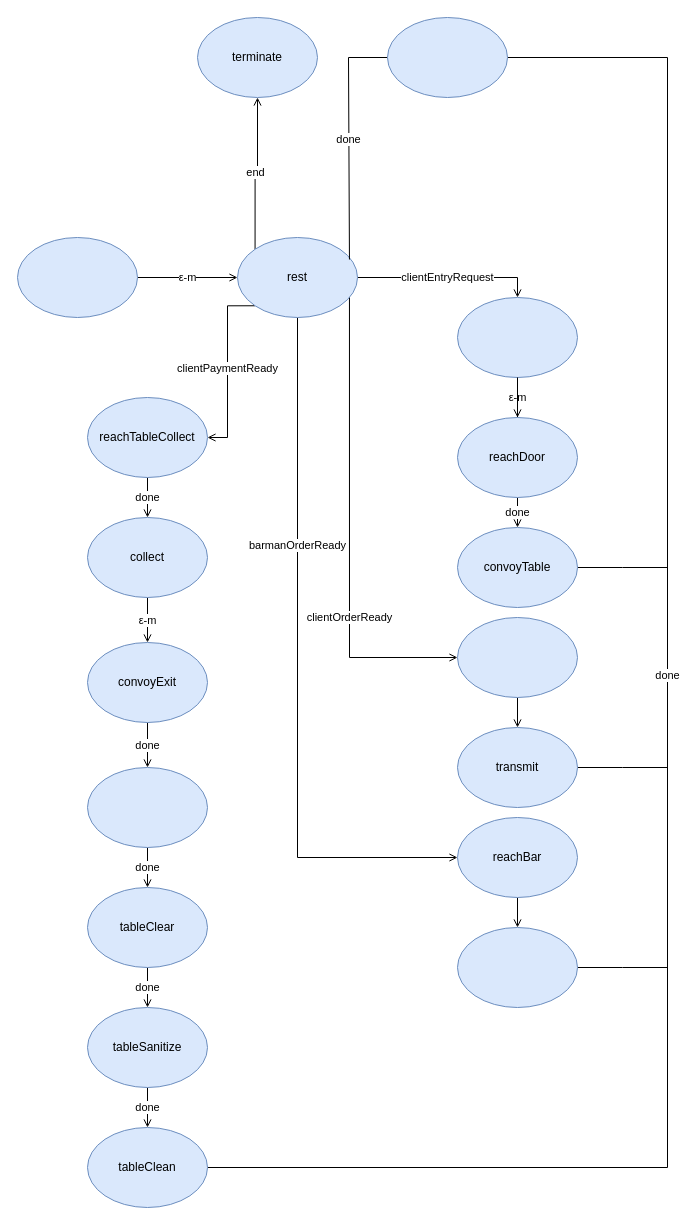
Image size: 697x1225. Some labels were removed from this diagram. The centre of each missing label's shape, as x and y in pixels:
accept: the point at 517,337
initial: the point at 77,277
reachHome: the point at 447,57
reachTableClean: the point at 147,807
reachTableOrder: the point at 517,657
serveTable: the point at 517,967
